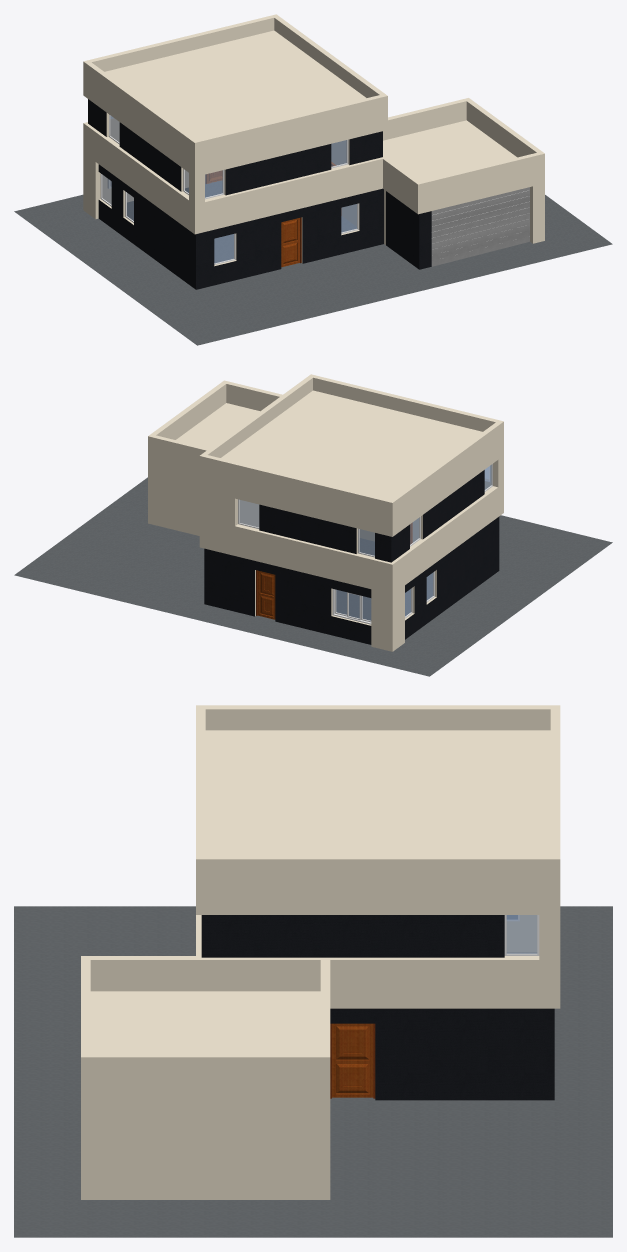
3 renders of one model, top to bottom at view 1: azimuth 30°, elevation 25°; view 2: azimuth 150°, elevation 25°; view 3: azimuth 270°, elevation 25°, orthographic. The views are drawn at different scales.
Parts seen in each view (by area): view 1: 5744, Root Node, 6044, 5957, Garage_Door, 6054, W2 (×2), Door1, W1 (×2); view 2: 5744, Root Node, 6044, 5957, 6054, W3, Door1#1, W2, W1; view 3: Root Node, 5744, 6044, 5957, 6054, Door1#2, W1.
Boxes of the visible parts, <box> form: 5744: <box>83,14,387,289</box>; Root Node: <box>14,180,612,345</box>; 6044: <box>105,30,366,139</box>; 5957: <box>383,98,544,269</box>; Garage_Door: <box>431,187,529,266</box>; 6054: <box>383,120,516,180</box>; W2 (×2): <box>205,170,235,264</box>; Door1: <box>281,217,301,267</box>; W1 (×2): <box>331,139,358,233</box>; 5744: <box>199,374,503,651</box>; Root Node: <box>14,477,612,676</box>; 6044: <box>221,390,482,499</box>; 5957: <box>148,380,282,535</box>; 6054: <box>176,403,259,448</box>; W3: <box>332,589,371,624</box>; Door1#1: <box>256,570,275,619</box>; W2: <box>238,499,259,528</box>; W1: <box>358,528,374,557</box>; Root Node: <box>14,906,612,1237</box>; 5744: <box>196,705,560,1100</box>; 6044: <box>205,730,550,855</box>; 5957: <box>81,956,330,1199</box>; 6054: <box>90,991,320,1053</box>; Door1#2: <box>330,1023,375,1098</box>; W1: <box>504,915,539,955</box>.
Bounding box in the file's own units: 20.45 × 7 × 15.62.
Materials: 366 (156 with a texture image).
